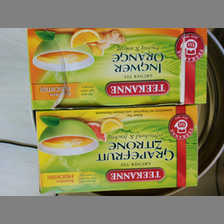tea: (35, 105, 201, 193), (27, 29, 208, 105)
